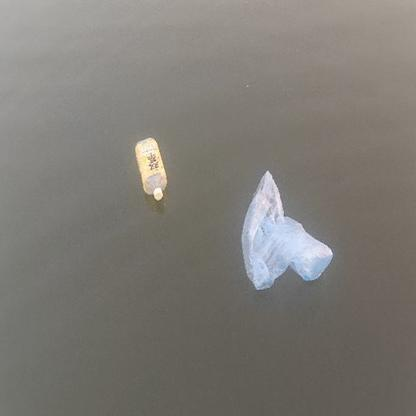plastic bag: (242, 171, 333, 291)
plastic bottle: (134, 137, 166, 200)
